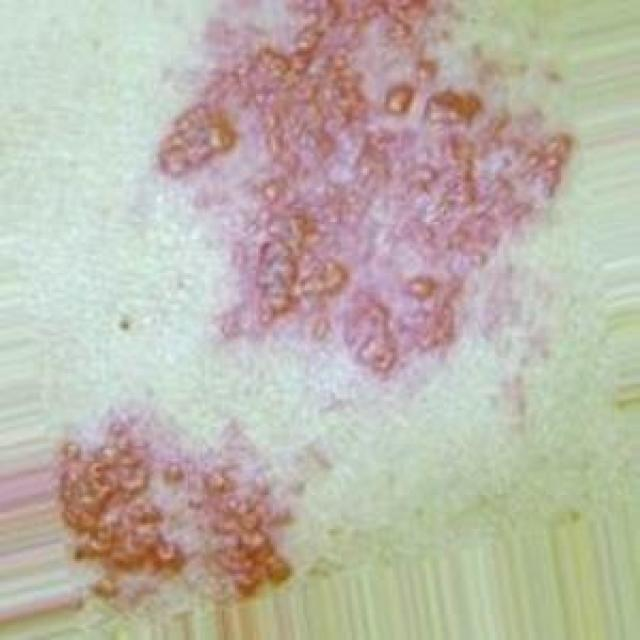Shingles: (155, 0, 572, 382), (53, 416, 294, 608)
